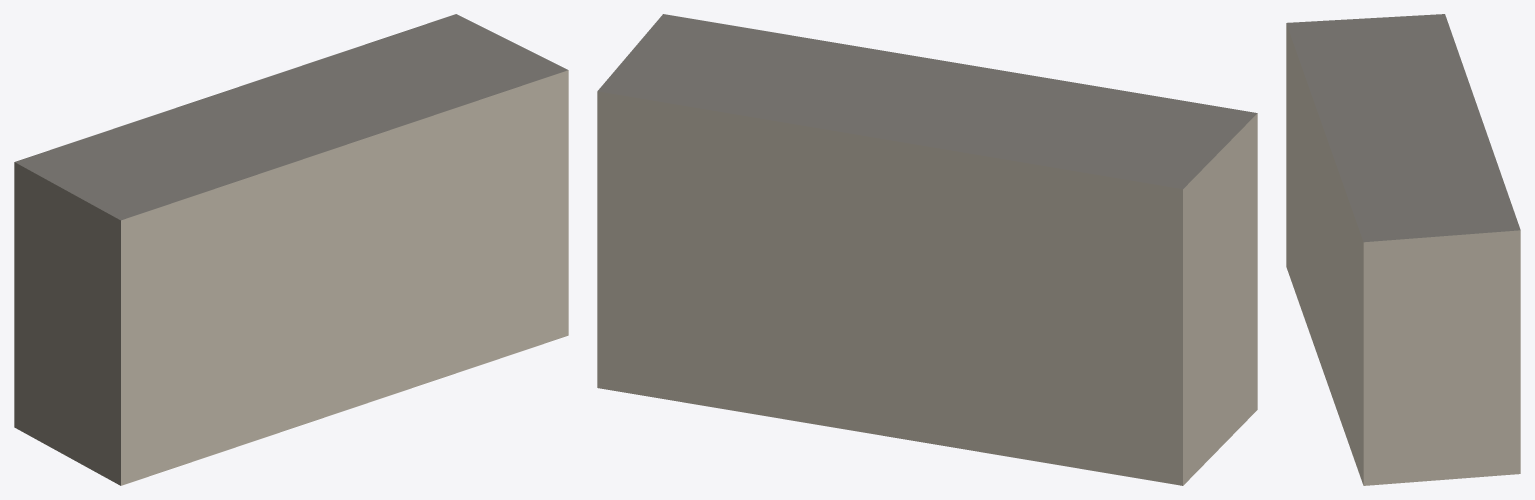
3 views of the same model, side by side, from view 1: azimuth 30°, elevation 25°; view 2: azimuth 150°, elevation 25°; view 3: azimuth 270°, elevation 25° (orthographic). The views are drawn at different scales.
Parts seen in each view (by area): view 1: HP-w380339907; view 2: HP-w380339907; view 3: HP-w380339907.
Part boxes in pixels (box(x1,y1,x2,y2)): HP-w380339907: box(14, 14, 568, 485); HP-w380339907: box(597, 14, 1257, 485); HP-w380339907: box(1286, 14, 1520, 485).
Bounding box in the file's own units: 36.16 × 18 × 15.7.
